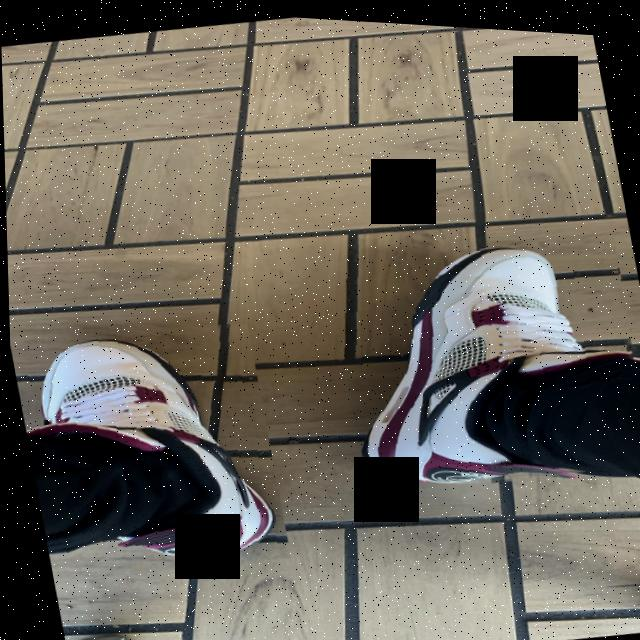shoe: (322, 213, 640, 507), (7, 297, 288, 592)
